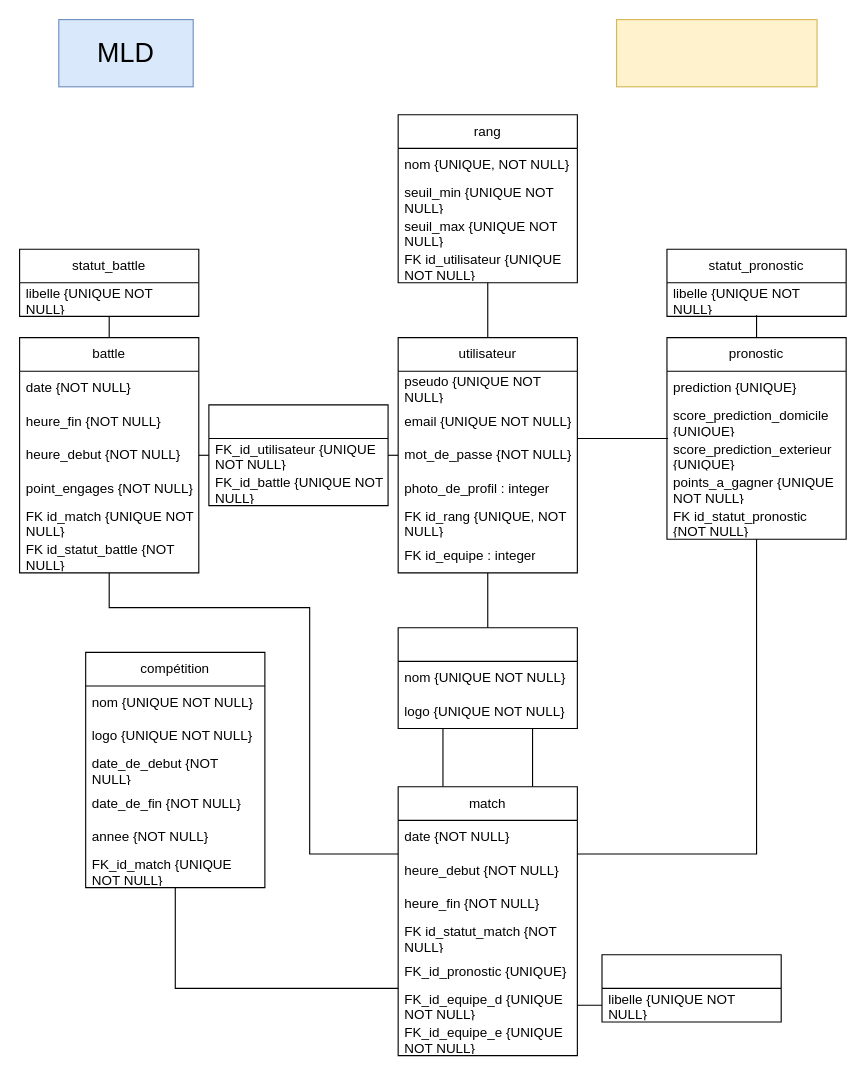
Image size: 866x1075. Some labels were removed from this diagram. The shapes that lost their labels are listed below. From the top down, each one's box as (x1, y1, x2, y2) in pixels, then its label:
(615, 18, 817, 87): Tous les objets contiennent un PK_ID {UNIQUE, NOT NULL}
(208, 404, 388, 506): battle_utilisateur
(397, 627, 577, 729): equipes
(601, 954, 781, 1022): statut_match
